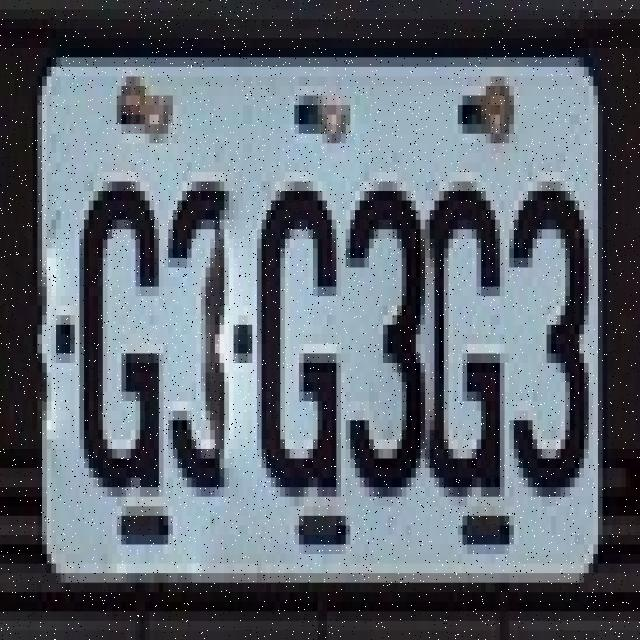licenseplate: (23, 34, 613, 613)
